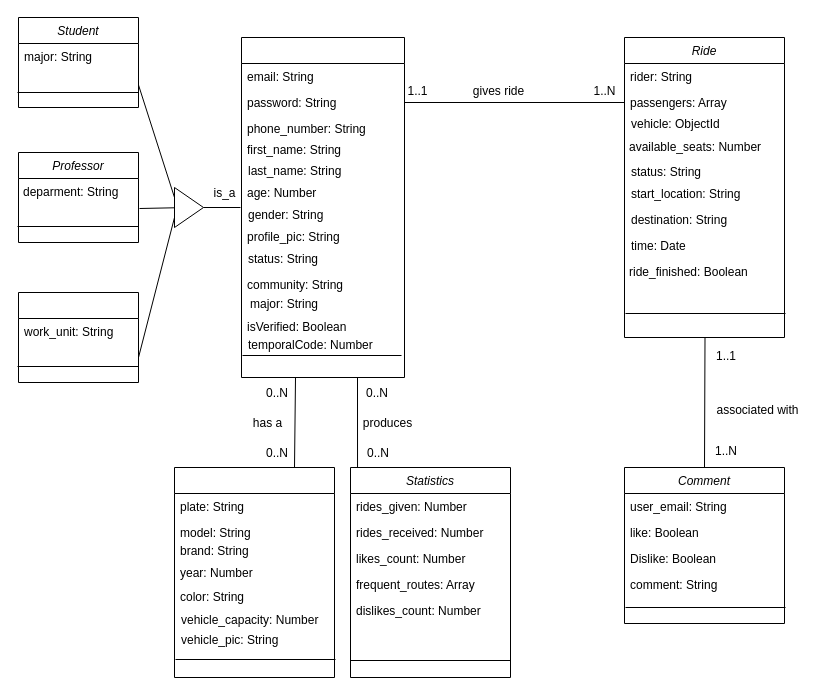
The diagram is 815 pixels wide and 695 high, and some of its shapes have lost their labels. Each missing label, with the box of its shape:
Employee: (18, 292, 138, 382)
User: (240, 36, 404, 378)
Vehicle: (174, 466, 334, 678)
